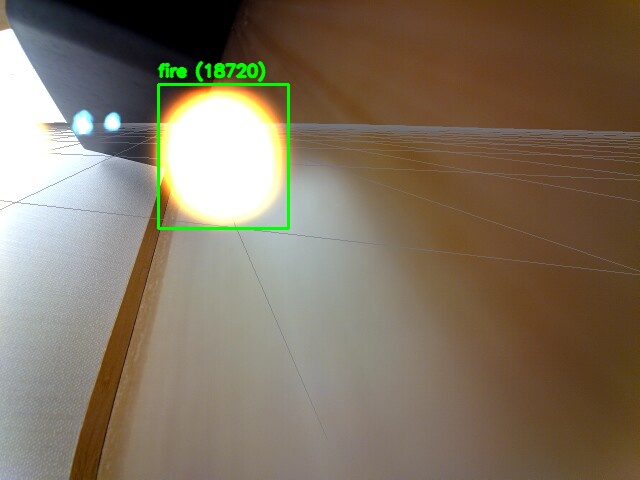fire: (158, 84, 288, 228)
